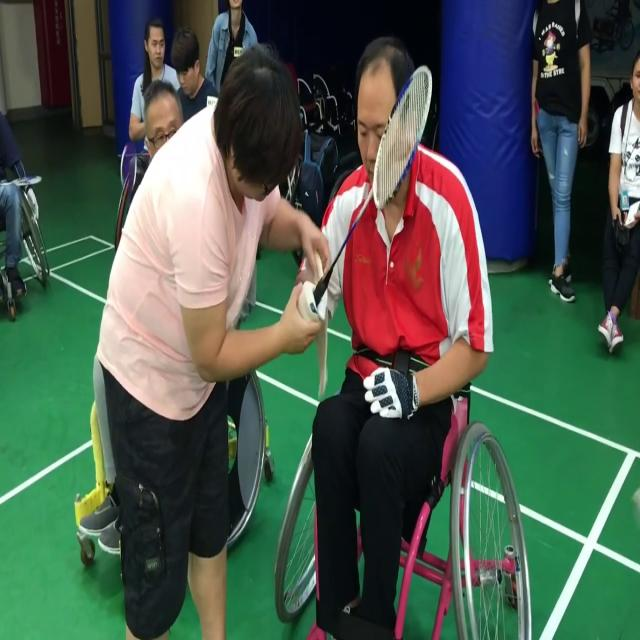wheelchairs: (263, 309, 544, 640)
